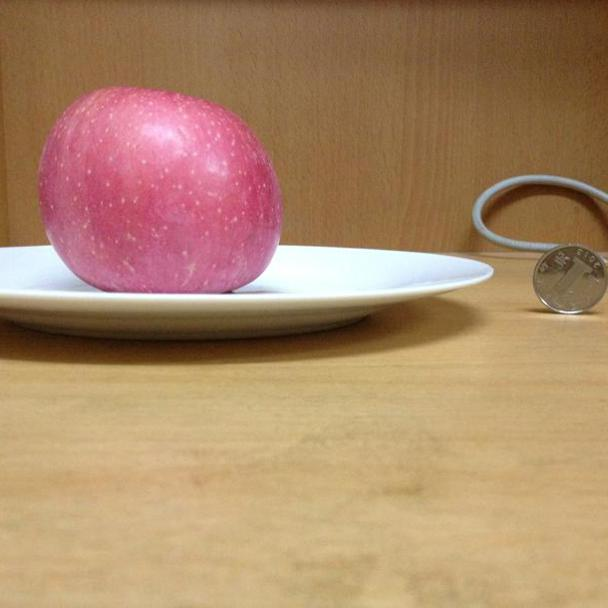apple: (36, 87, 284, 292)
